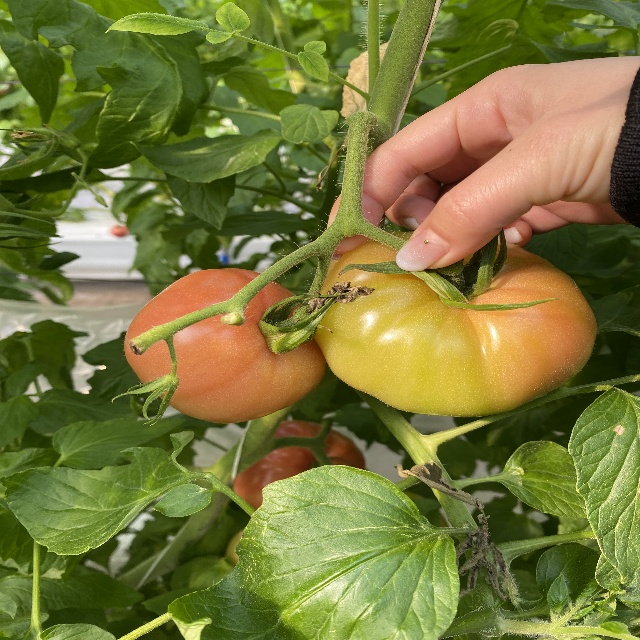b_half_ripened: (309, 231, 598, 417), (124, 268, 328, 423), (232, 420, 367, 511)
